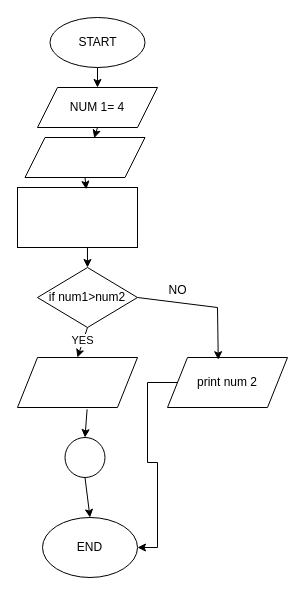
Image size: 305x595. Some labels were removed from this diagram. Each missing label, with the box of its shape:
Find the largest num: (16, 186, 138, 248)
NUM2 =3: (24, 136, 145, 178)
print num1: (16, 356, 138, 408)
